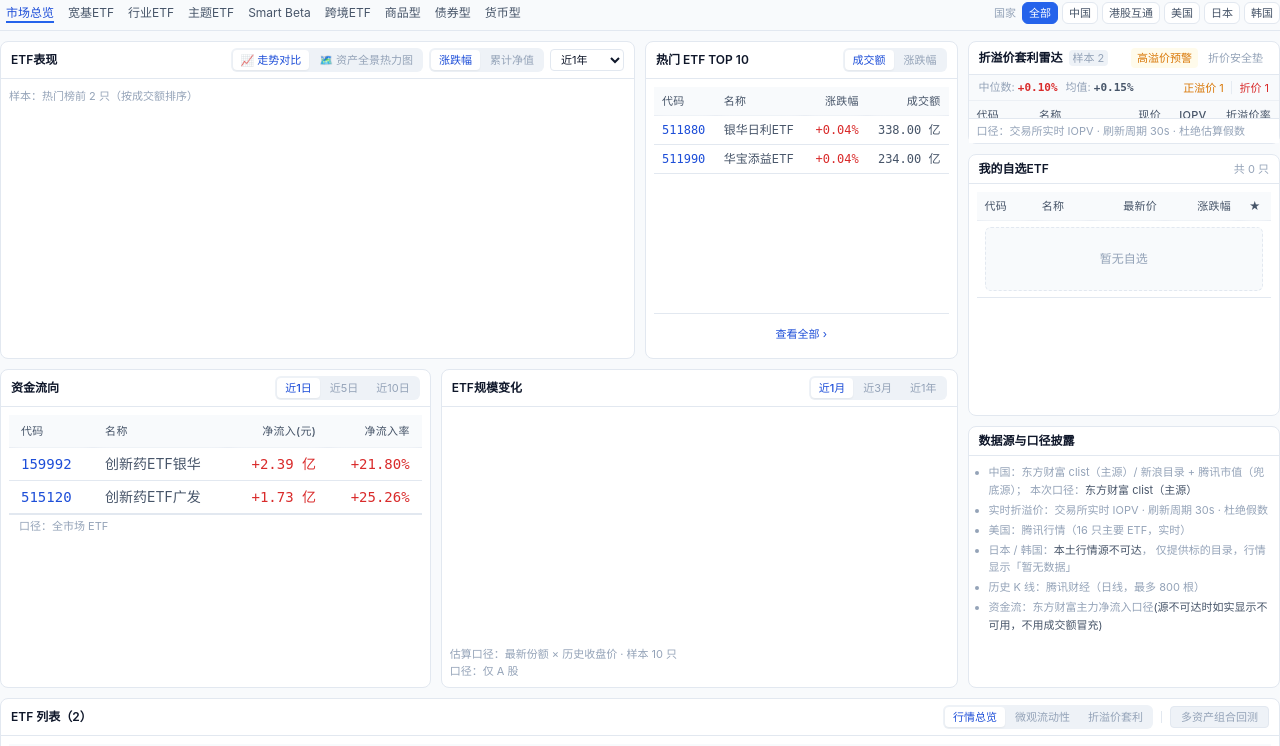
Scenario: ETF列表三重视图与多资产勾选 › 支持切换至「微观流动性」视图并展示换手率列头
This screenshot has width=1280, height=746.
Expected: the text "创新药ETF银华" is shown, top-left (93, 448), bottom-right (228, 481)
Click the button "微观流动性": (1042, 717) top-left (1007, 707), bottom-right (1078, 727)
(page scrolled)
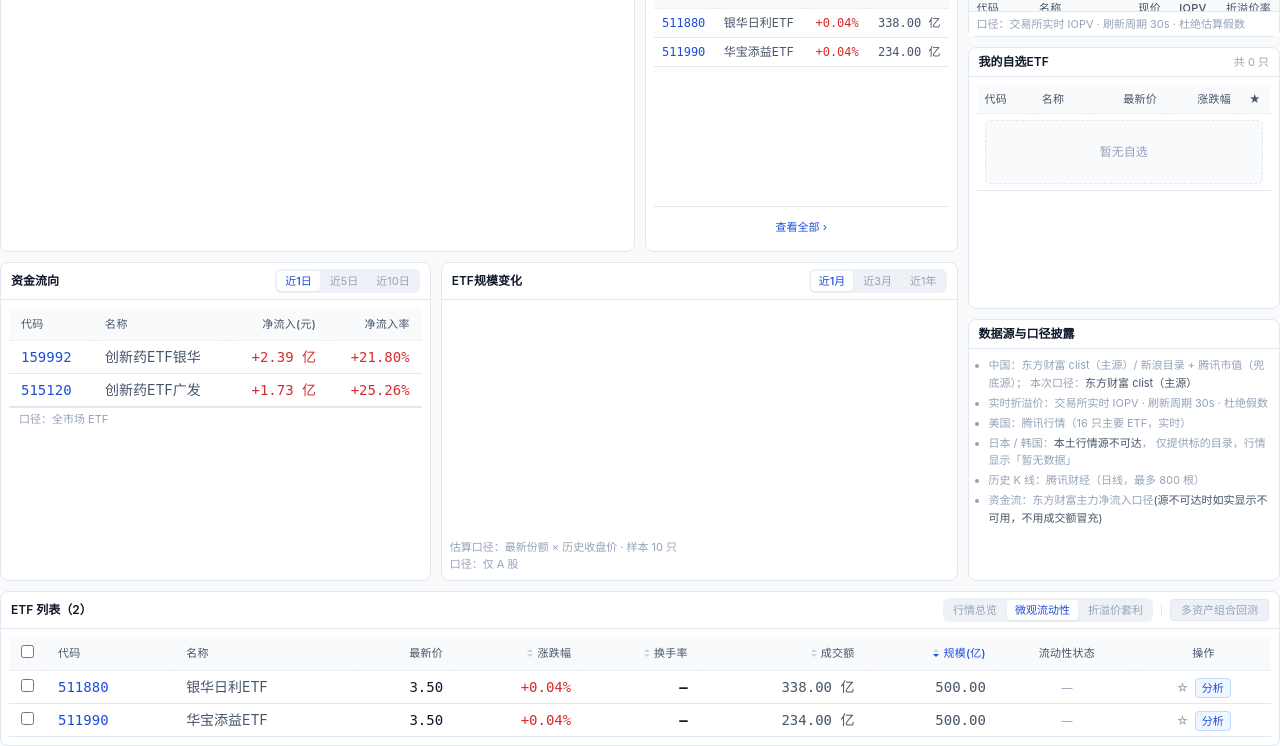
Expected: the text "换手率" is shown, top-left (654, 645), bottom-right (688, 661)
Expected: the column heading "流动性状态" is shown, top-left (998, 637), bottom-right (1136, 670)
